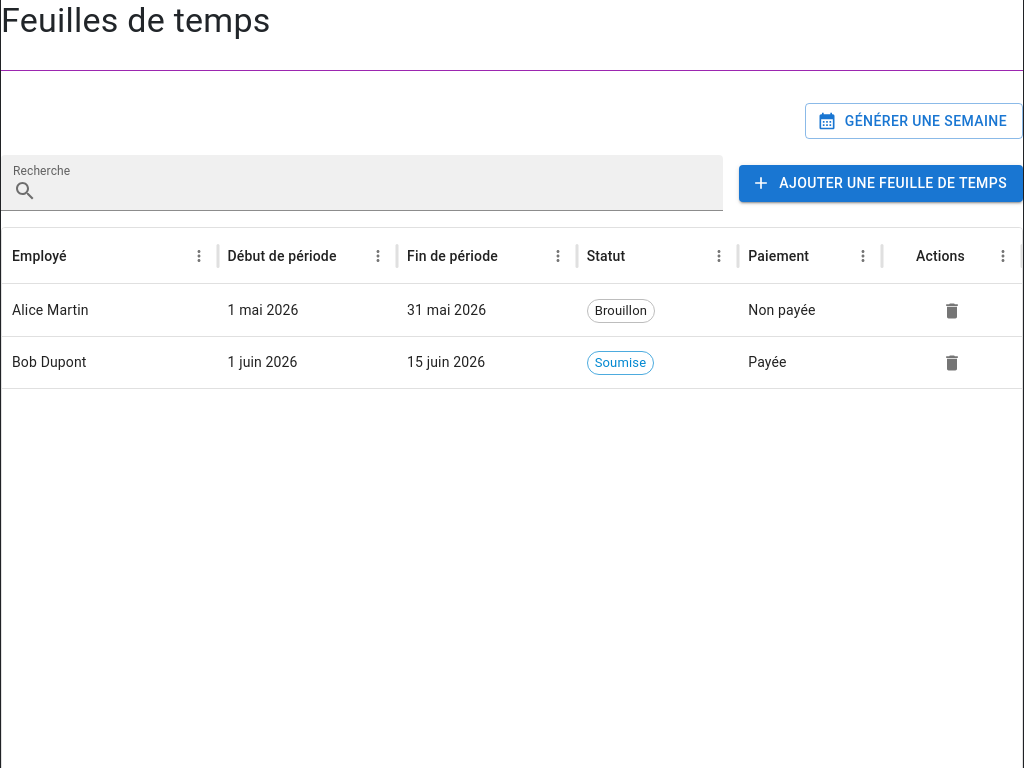
Test: TimesheetsPage › should generate weekly timesheets from the admin tool
Click the button "Générer une semaine" at (914, 121), box [805,103,1023,139]
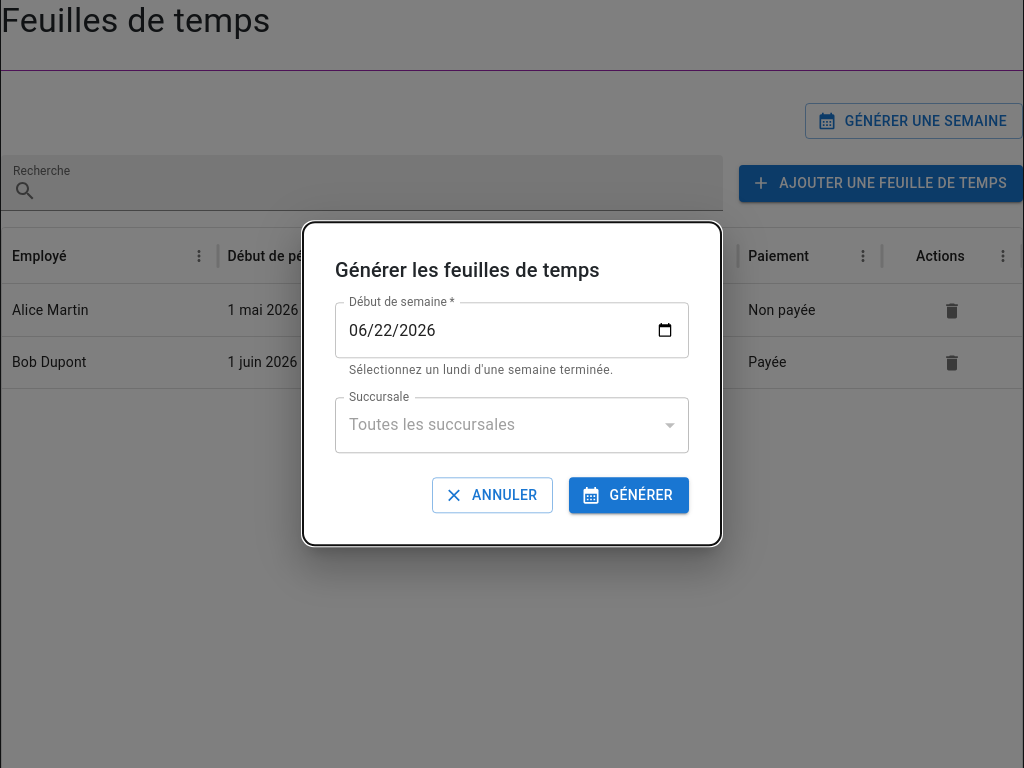
Click the button "Générer" at (629, 495), box [570,477,689,514]
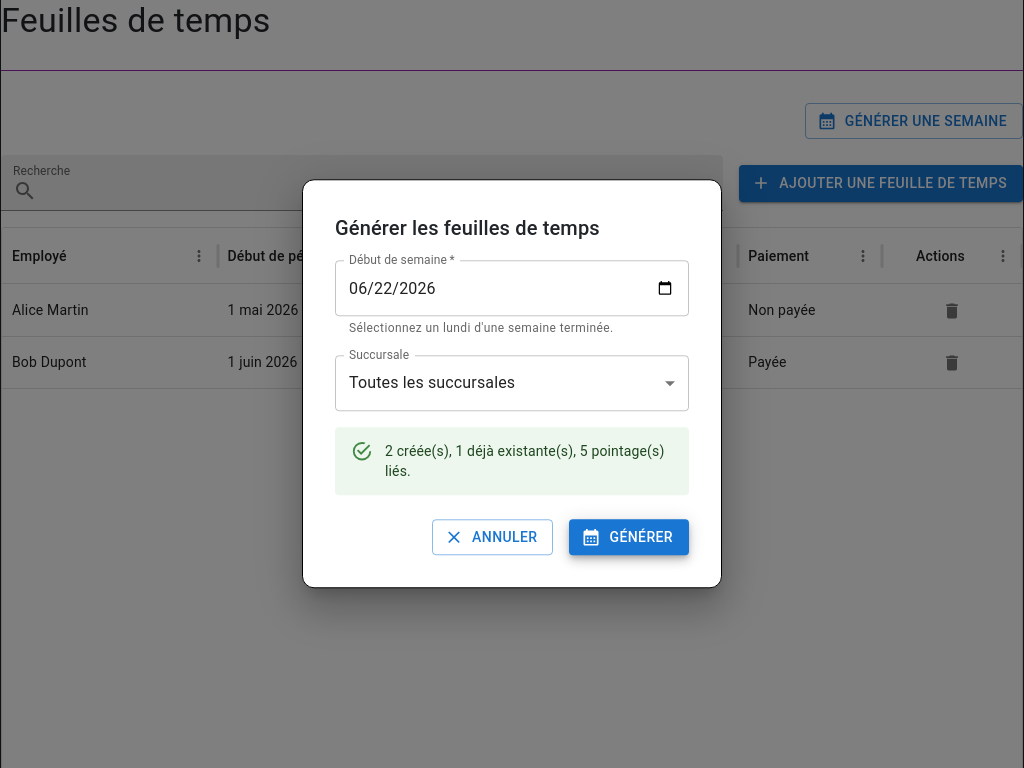
Now the text "2 créée(s), 1 déjà existante(s), 5 pointage(s) liés." is shown, box [385,441,673,481]
